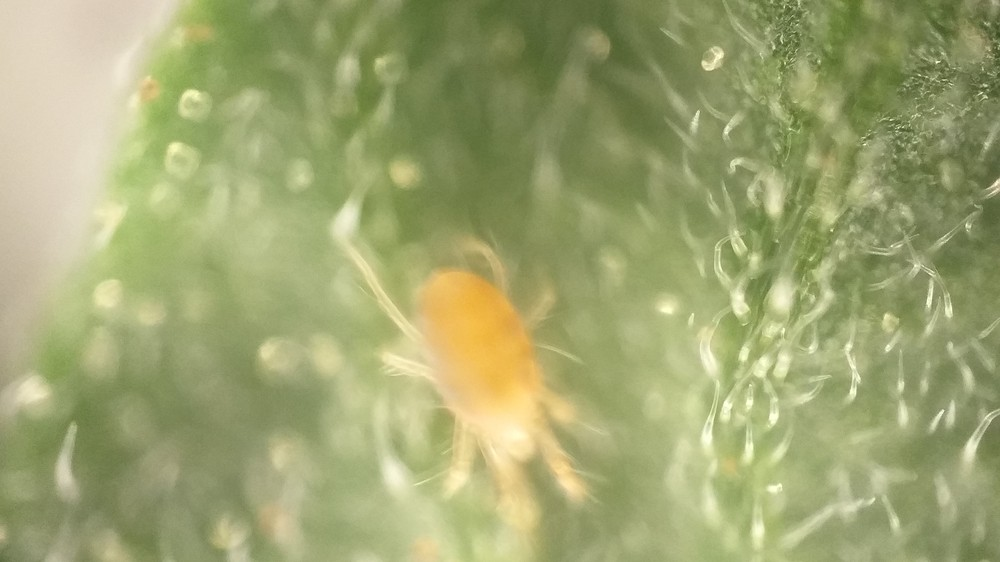Aracnido Rojo: (332, 220, 622, 538)
